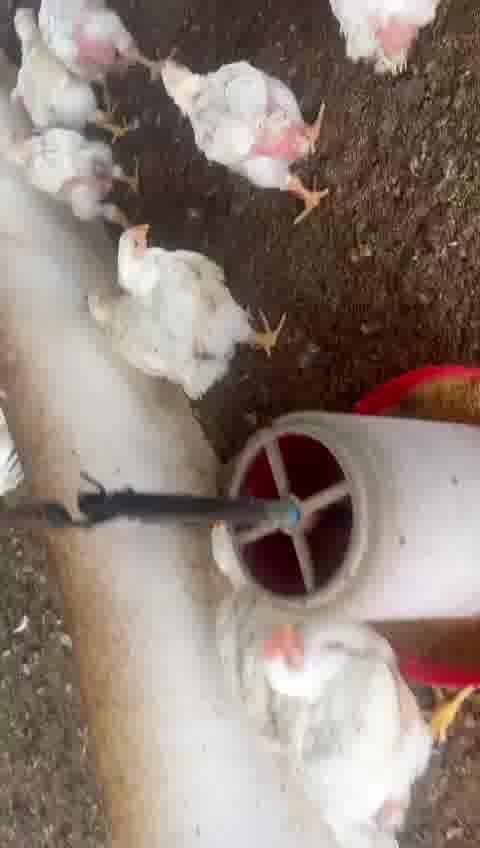AbNormal: (73, 283, 179, 386)
Normal: (257, 625, 450, 844), (153, 47, 349, 235), (119, 222, 299, 352), (0, 120, 141, 224), (29, 18, 166, 114)
